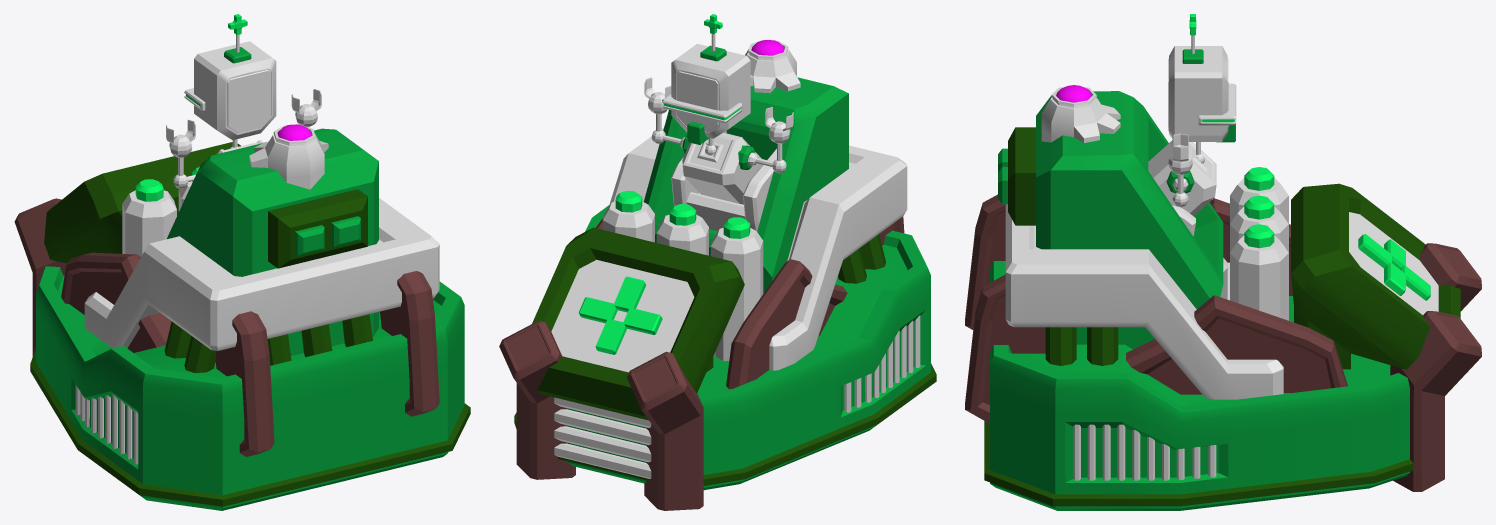
The model's file is repair_module.fbx.
3 views of the same model, side by side, from view 1: azimuth 30°, elevation 25°; view 2: azimuth 150°, elevation 25°; view 3: azimuth 270°, elevation 25° (orthographic). The views are drawn at different scales.
Parts seen in each view (by area): view 1: group6_pCube198; view 2: group6_pCube198; view 3: group6_pCube198.
Boxes of the visible parts, x1,y1,x2,y2 form: group6_pCube198: [14, 14, 470, 510]; group6_pCube198: [499, 14, 936, 510]; group6_pCube198: [965, 14, 1481, 510].
Size of the model in its own units: 49.82 by 59.06 by 64.56.
